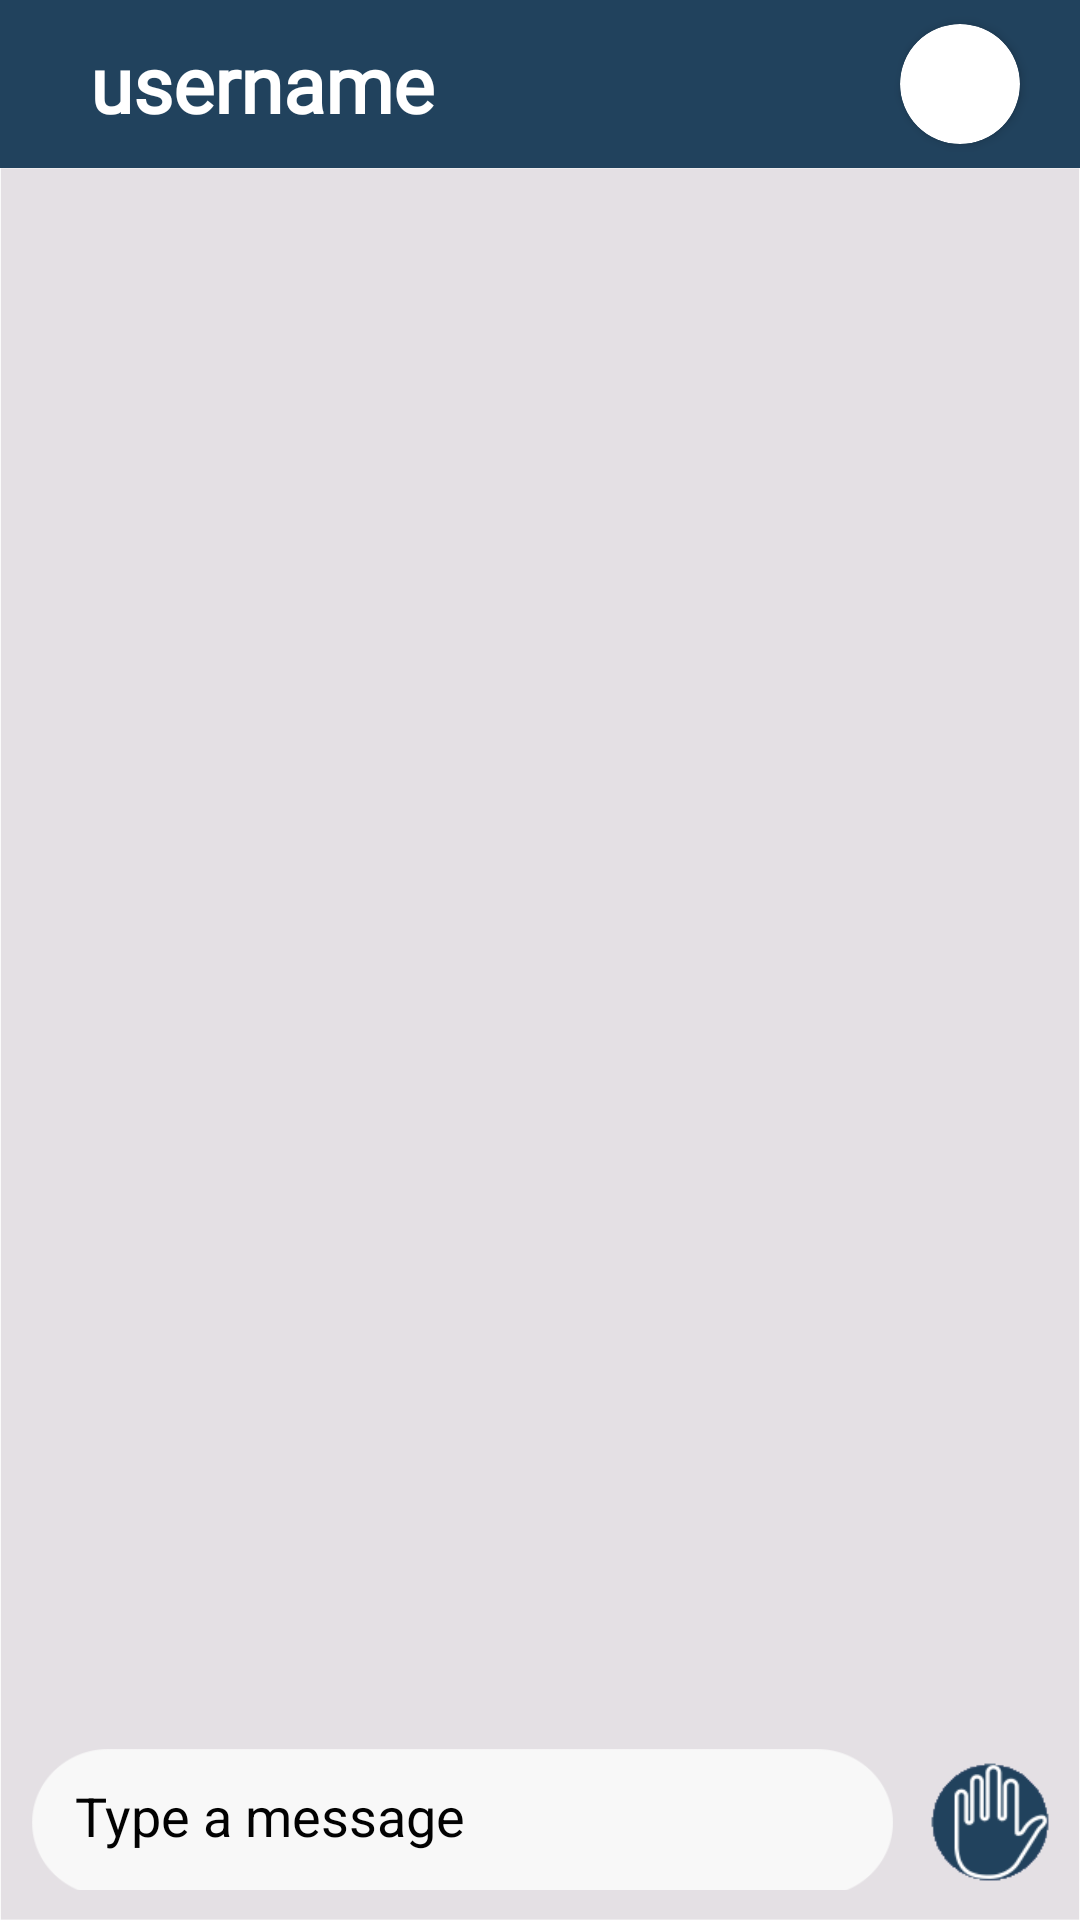

Screen size 1080×1920. Icon name, then its center in pixels as (x,y):
chat first msg hi: (990,1822)
